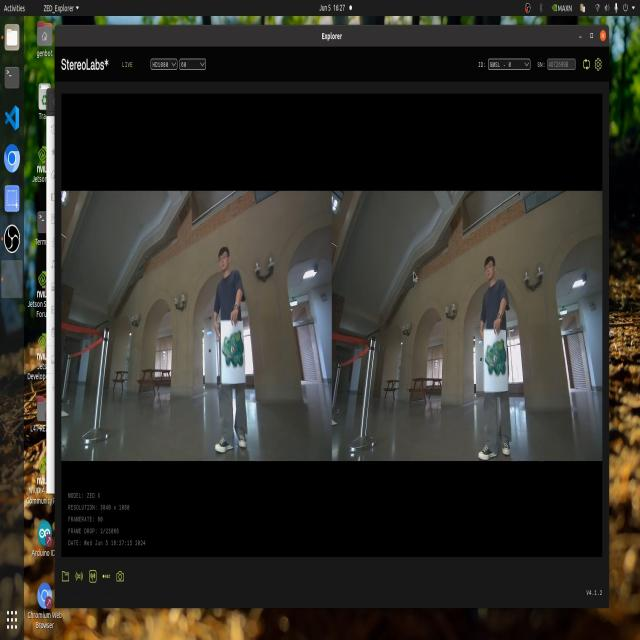green: (218, 326, 250, 387), (485, 336, 513, 376)
